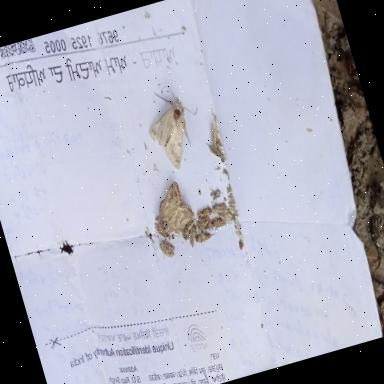abw: (138, 80, 213, 175), (148, 179, 200, 243)
pbw: (206, 116, 226, 152), (158, 238, 178, 261), (194, 230, 218, 249), (192, 204, 216, 222), (206, 140, 225, 162), (154, 220, 172, 243), (180, 220, 198, 242), (186, 224, 202, 248), (195, 216, 214, 233), (210, 215, 230, 230), (212, 201, 229, 218)
